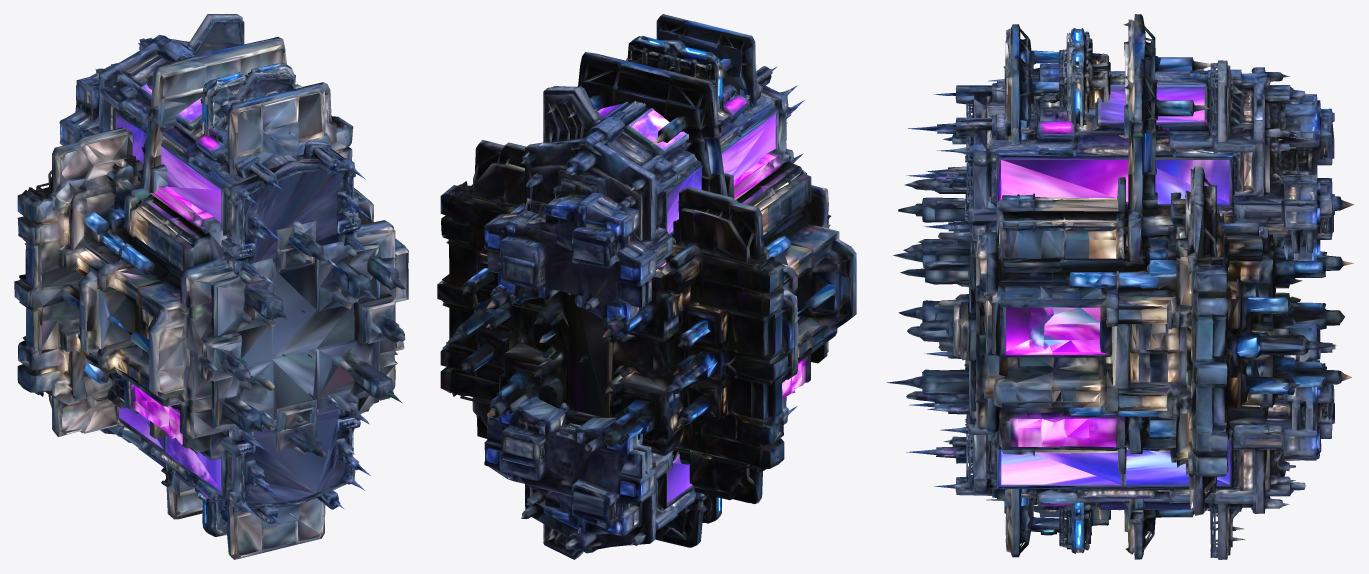
The model's file is homepage-buildings.glb.
3 renders of one model, left to right at view 1: azimuth 30°, elevation 25°; view 2: azimuth 150°, elevation 25°; view 3: azimuth 270°, elevation 25°, orthographic. The views are drawn at different scales.
Visible parts, largest first — view 1: tripo-building-03, tripo-building-26, tripo-building-04; view 2: tripo-building-03, tripo-building-26, tripo-building-04; view 3: tripo-building-03, tripo-building-26, tripo-building-04.
Boxes of the visible parts, x1,y1,x2,y2 form: tripo-building-03: (14,37,408,559); tripo-building-26: (59,14,371,524); tripo-building-04: (195,62,314,536); tripo-building-03: (437,14,856,547); tripo-building-26: (484,40,804,559); tripo-building-04: (579,36,723,523); tripo-building-03: (886,14,1353,559); tripo-building-26: (906,47,1335,559); tripo-building-04: (964,28,1127,553).
Bounding box in the file's own units: 0.7372 × 0.9814 × 0.8479.
3 materials, 3 textured.
